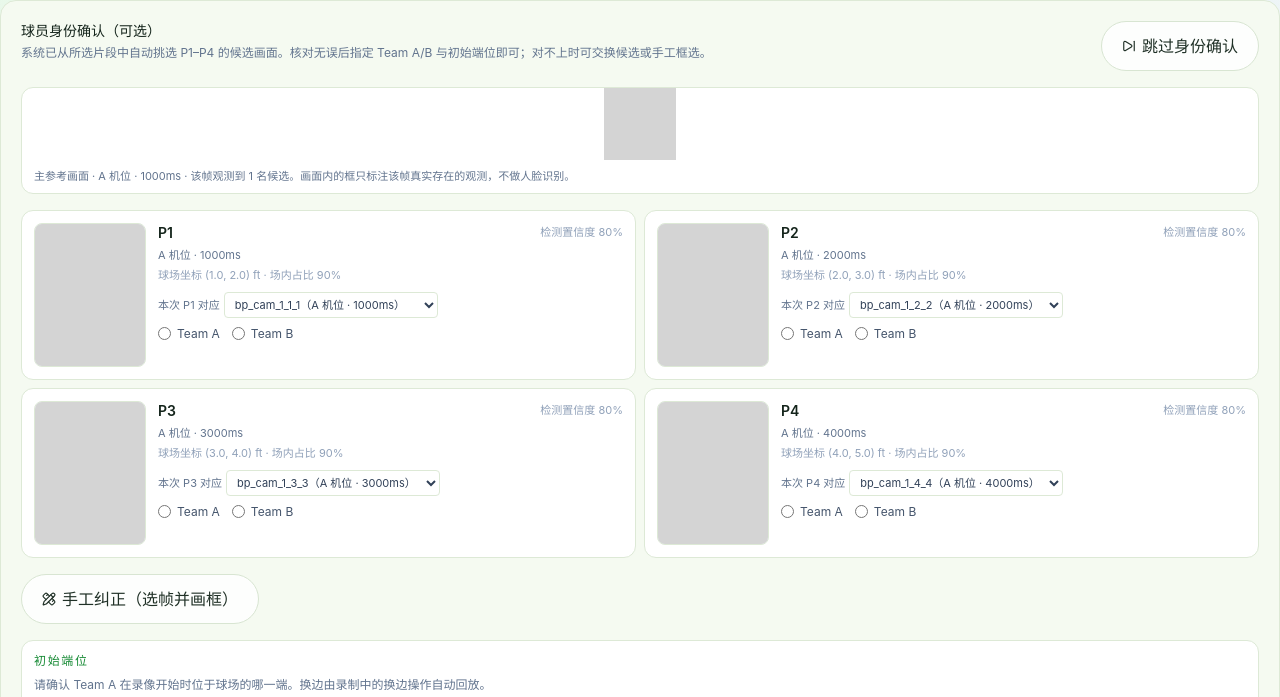
it: AnalysisRosterConfirmation › 替换已占用槽位的候选会释放原槽位
Note: 把 P1 的候选指派给 P2（占用 P1 的候选）
Select "bp_cam_1_1_1（A 机位 · 1000ms）" in the dropdown with test id "roster-player-select-1": (956, 304) [849,292,1063,318]
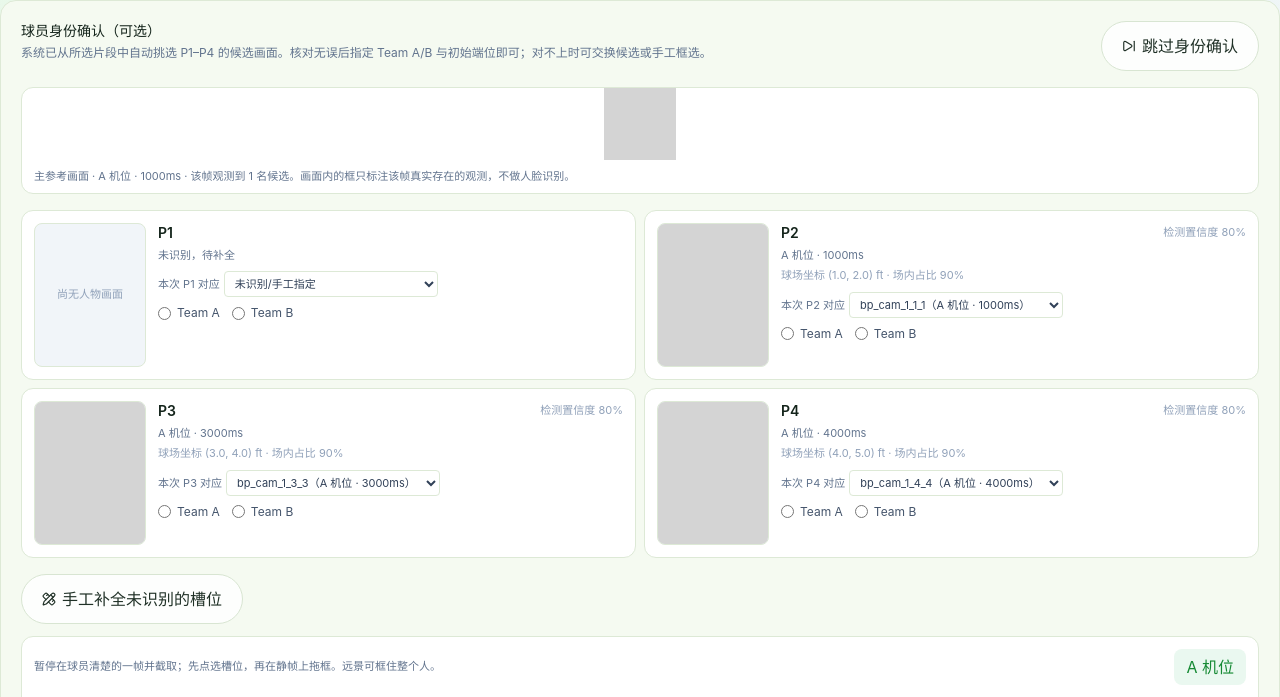
Check: the dropdown with test id "roster-player-select-0" shows "未识别/手工指定", box [224,271,438,297]
